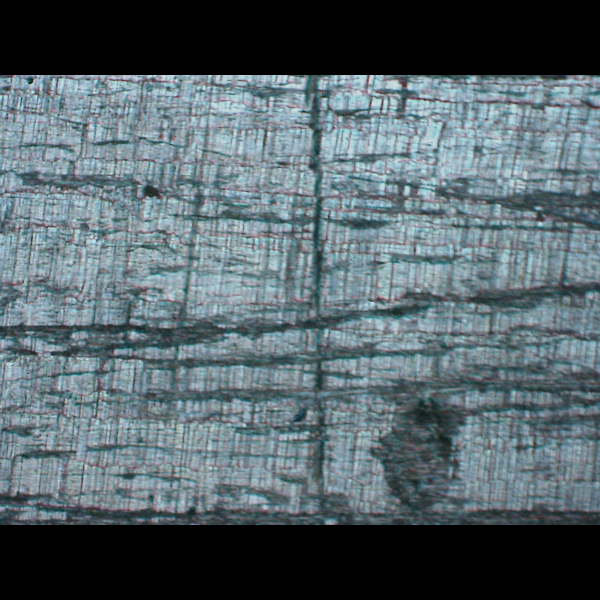d: (359, 391, 469, 523)
